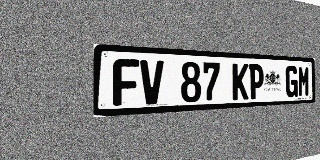7: (202, 62, 220, 102)
8: (181, 61, 201, 103)
F: (113, 59, 139, 106)
G: (285, 65, 298, 98)
K: (232, 63, 248, 100)
M: (298, 66, 310, 97)
P: (249, 64, 264, 99)
V: (140, 60, 164, 105)
